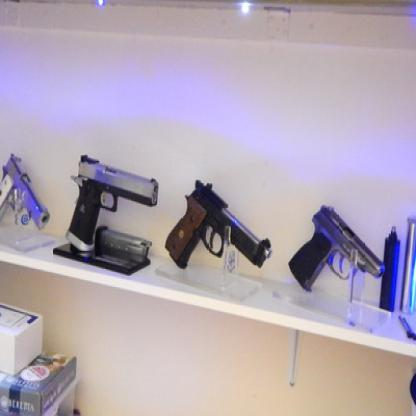gun: (164, 172, 272, 294), (69, 139, 161, 272), (282, 201, 389, 298), (0, 147, 54, 243)
